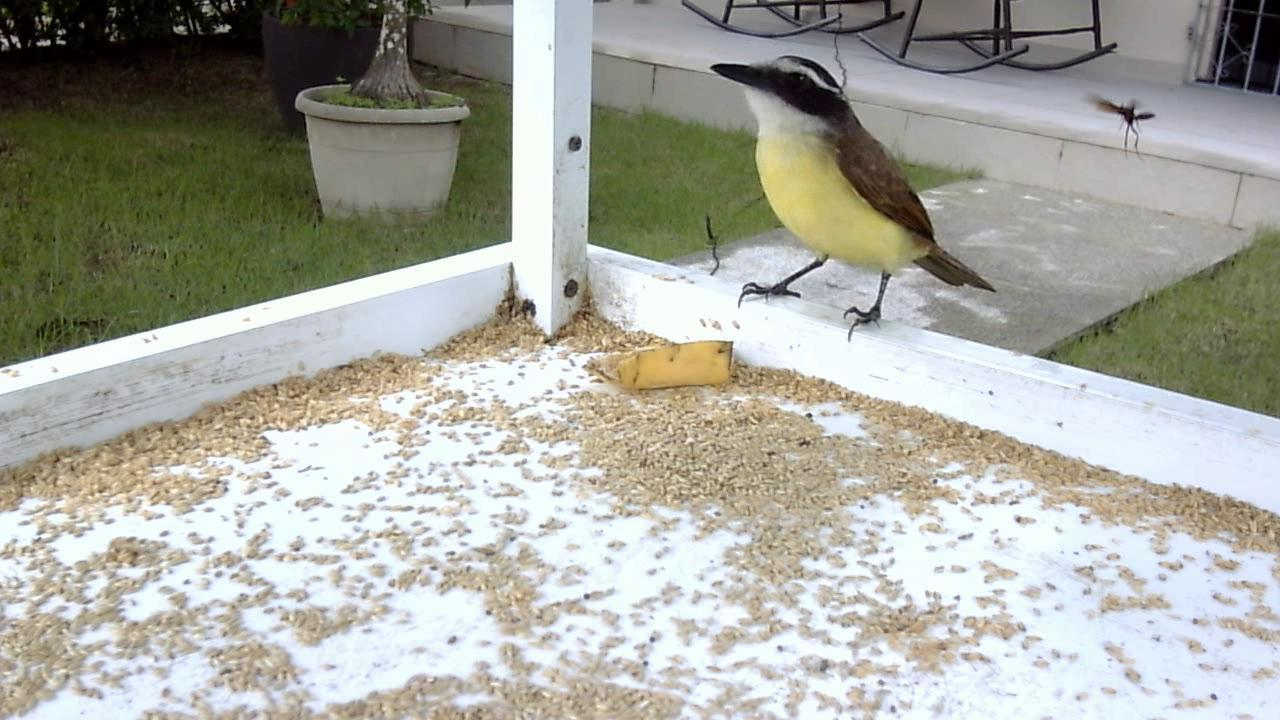bem_te_vi: (687, 47, 1007, 357)
